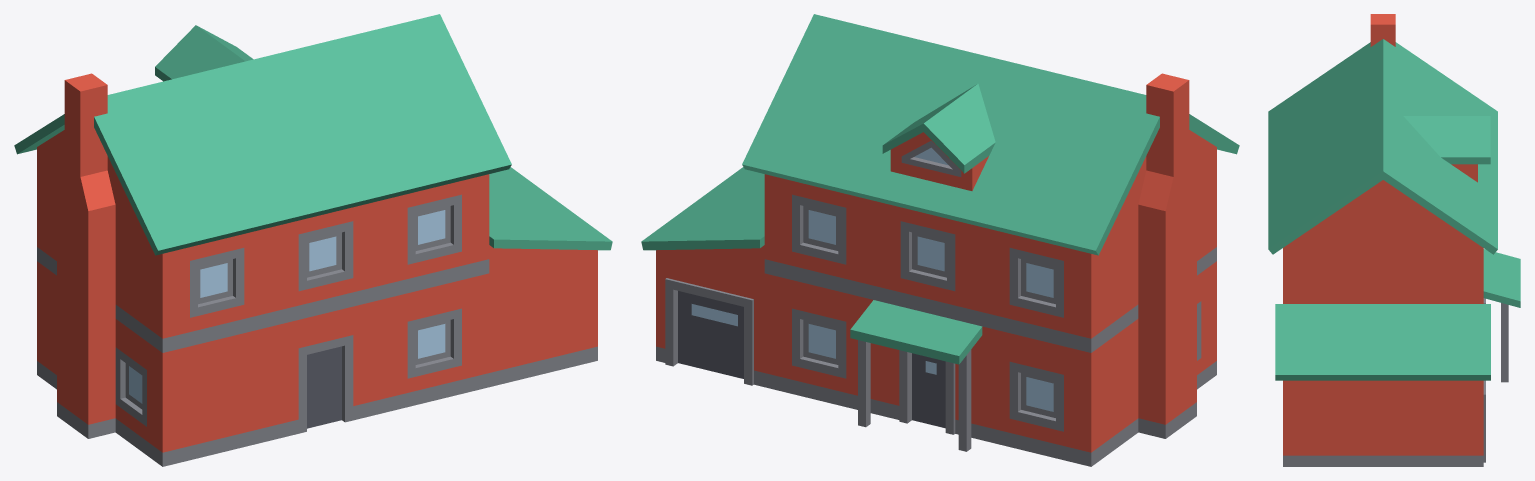
The model's file is house_type08.dae.
The picture shows the model from 3 angles, left to right: view 1: azimuth 30°, elevation 25°; view 2: azimuth 150°, elevation 25°; view 3: azimuth 270°, elevation 25°; orthographic projection. The views are drawn at different scales.
Visible parts, largest first — view 1: house_type08; view 2: house_type08; view 3: house_type08.
Part boxes in pixels (left/top/right/bottom): house_type08: left=14, top=14, right=612, bottom=466; house_type08: left=641, top=14, right=1239, bottom=466; house_type08: left=1268, top=14, right=1520, bottom=466.
Bounding box in the file's own units: 1.74 × 1.2 × 1.01.
